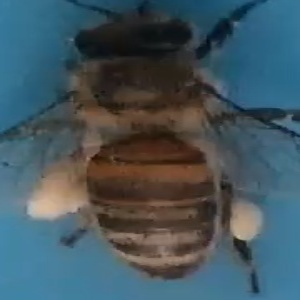bee: (5, 2, 300, 298)
